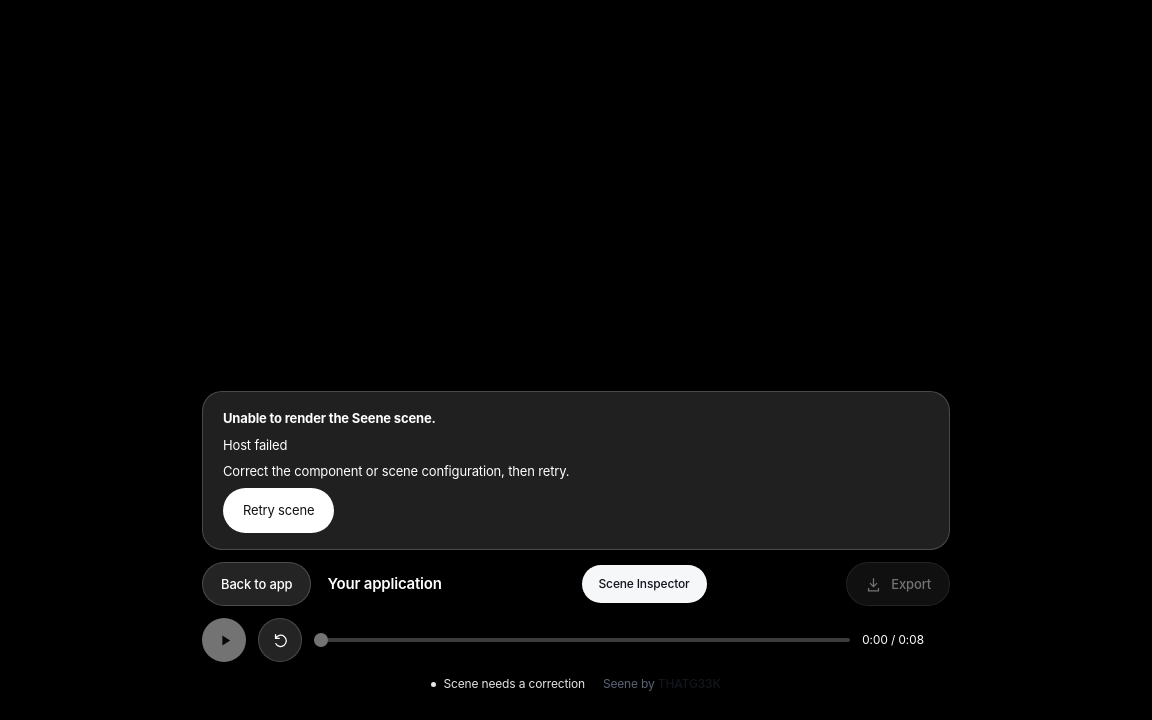
keeps back navigation available on render failure and uses canonical retry recovery
expect the message that starts with "Unable to render the Seene scene." shows "Host failed": met, box 223,437 -> 287,453
expect the link "Back to app" is shown: met, box 202,562 -> 312,606
Click the button "Retry scene": x=279, y=511 223,488 -> 334,533
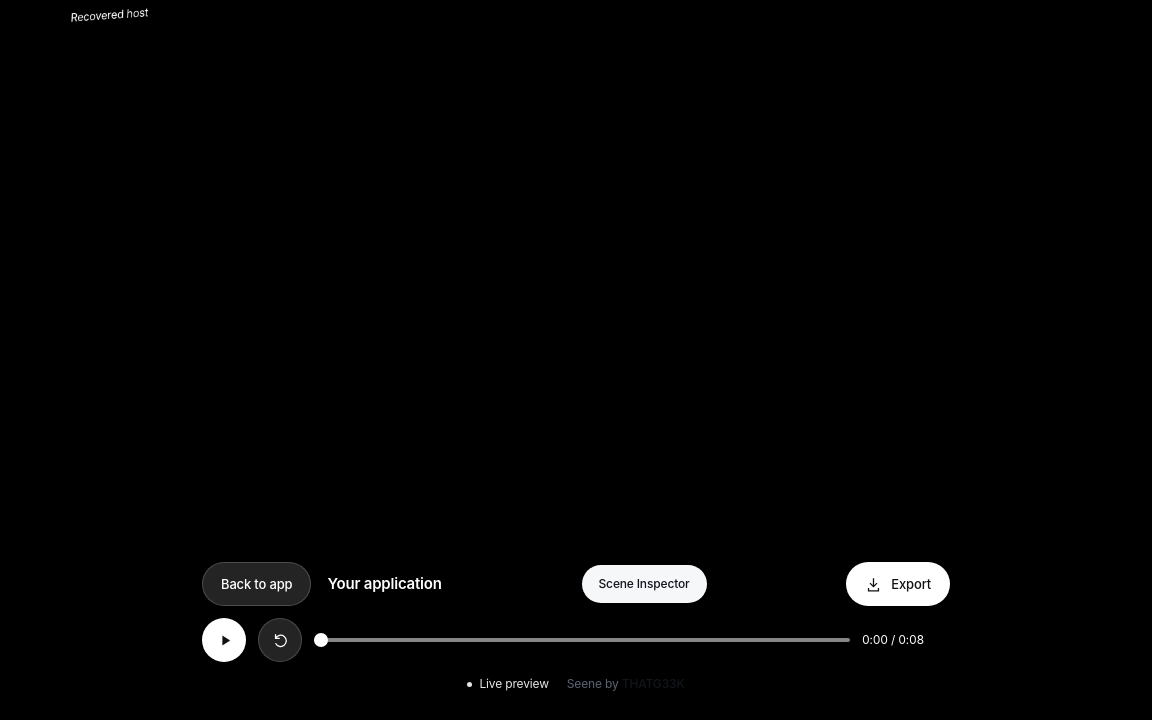
expect the button "Recovered host" is shown: met, box 70,4 -> 149,26
